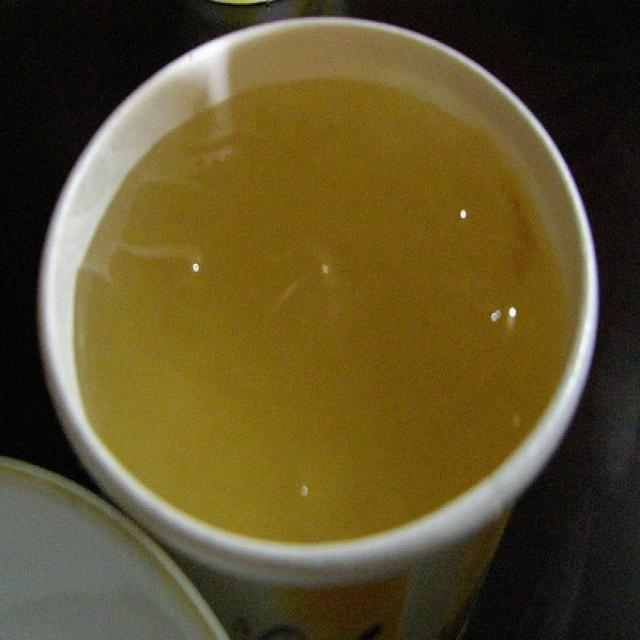蛋糕甜品: (33, 37, 594, 597)
